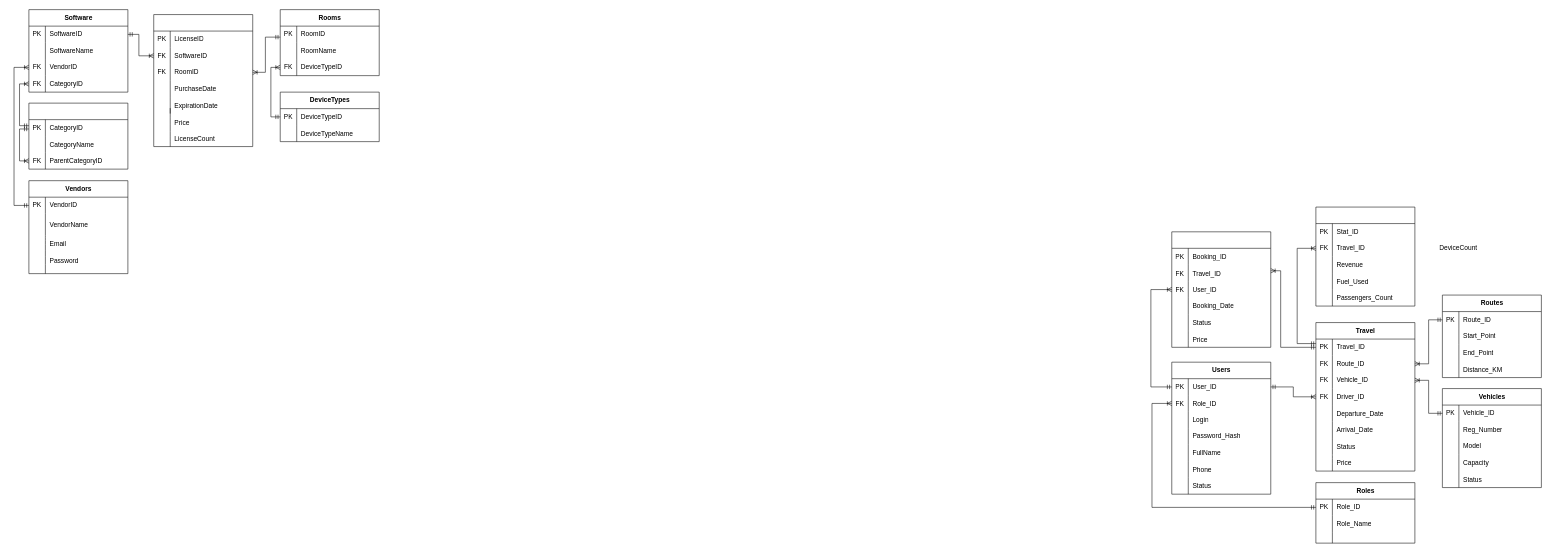
The diagram is 1551 pixels wide and 553 high, and some of its shapes have lost their labels. Here are the shapes that lost their labels. From the top down, the box of each, then its label:
(153, 14, 253, 147): Licenses
(28, 103, 128, 169): SoftwareCategories
(1315, 207, 1415, 306): Statistics
(1171, 231, 1271, 347): Bookings
